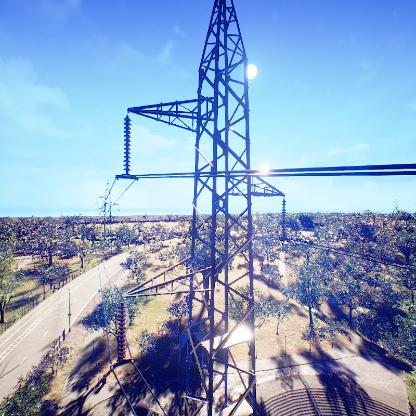tower: (113, 0, 295, 416)
